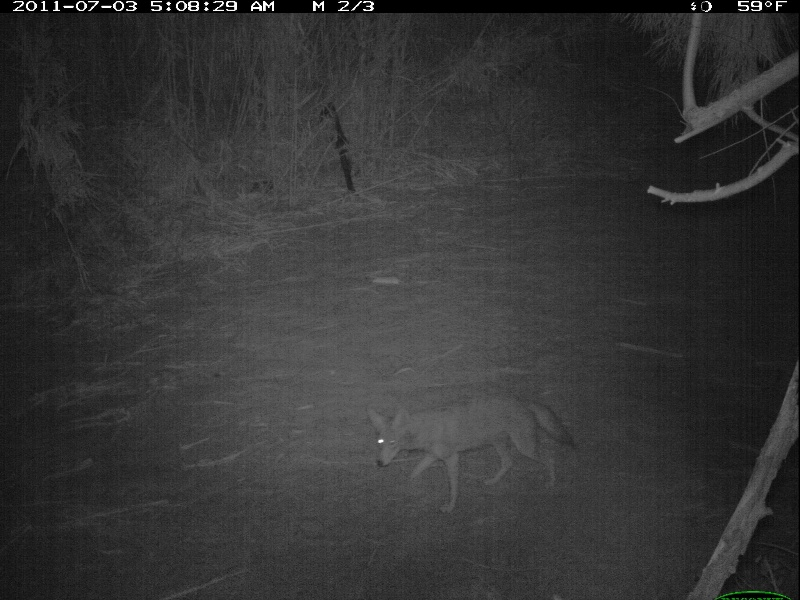coyote: (361, 394, 574, 519)
